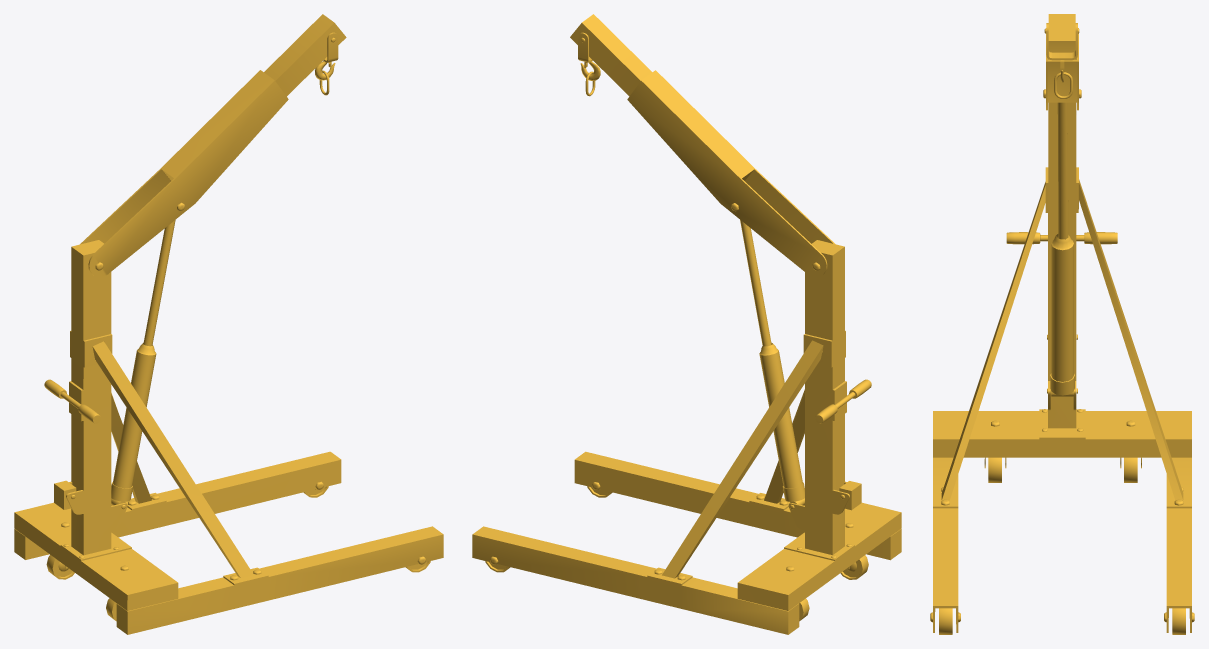
The model's file is palan13_opti.FBX.
3 views of the same model, side by side, from view 1: azimuth 30°, elevation 25°; view 2: azimuth 150°, elevation 25°; view 3: azimuth 270°, elevation 25° (orthographic). The views are drawn at different scales.
Visible parts, largest first — view 1: corps_CHAMFER001; view 2: corps_CHAMFER001; view 3: corps_CHAMFER001.
Boxes of the visible parts, x1=… form: corps_CHAMFER001: x1=14, y1=14, x2=443, y2=634; corps_CHAMFER001: x1=472, y1=14, x2=901, y2=634; corps_CHAMFER001: x1=930, y1=14, x2=1194, y2=634.
Bounding box in the file's own units: 58.89 × 89.89 × 35.95.
